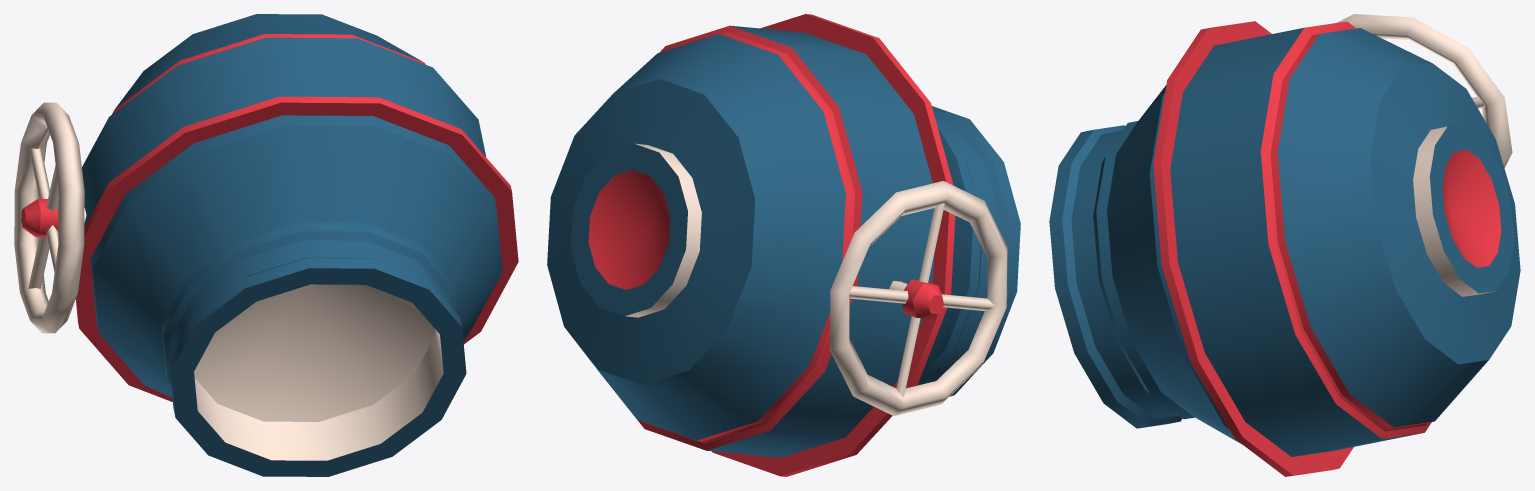
File: Domik_Beton.fbx
3 renders of one model, left to right at view 1: azimuth 30°, elevation 25°; view 2: azimuth 150°, elevation 25°; view 3: azimuth 270°, elevation 25°, orthographic. The views are drawn at different scales.
Parts seen in each view (by area): view 1: Cylinder002; view 2: Cylinder002; view 3: Cylinder002.
Part boxes in pixels (left/top/right/bottom): Cylinder002: left=14, top=14, right=518, bottom=476; Cylinder002: left=547, top=14, right=1020, bottom=476; Cylinder002: left=1049, top=14, right=1520, bottom=476.
Size of the model in its own units: 2209 by 1999 by 2065.
